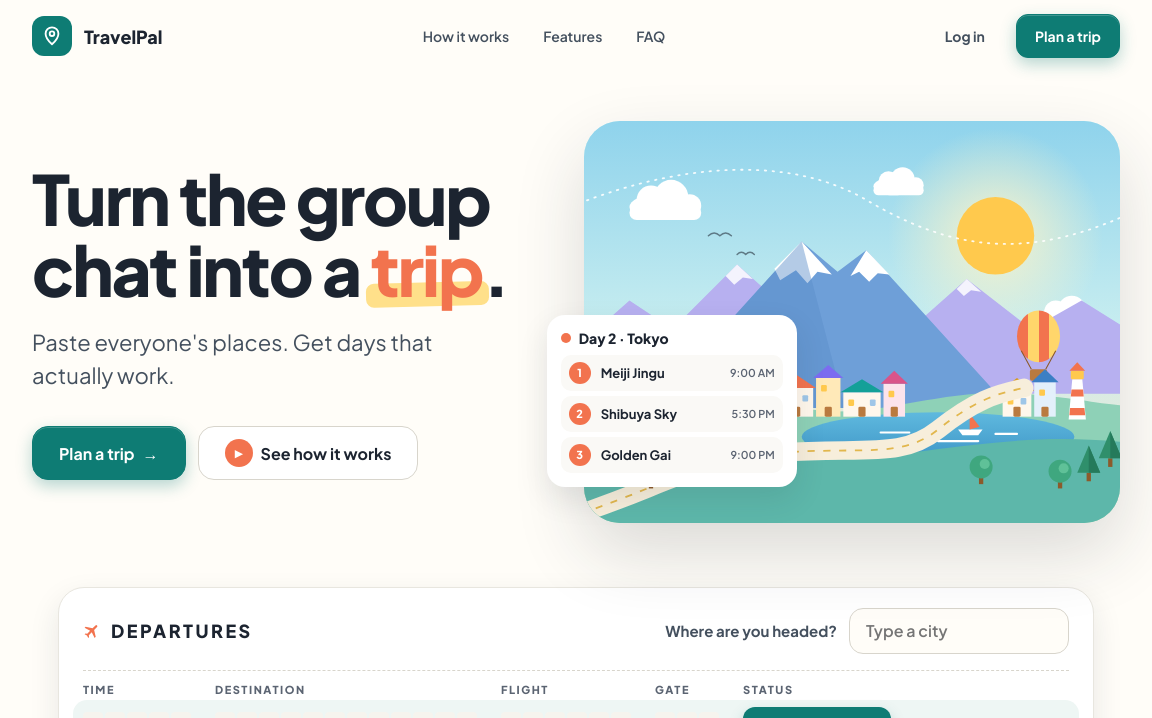
it: turns the departures board into the first step of planning
# Typing a city flips it onto the top row and carries it into sign-up.
Type "Kyoto" into the field at (959, 631), box [849,608,1069,654]
(page scrolled)
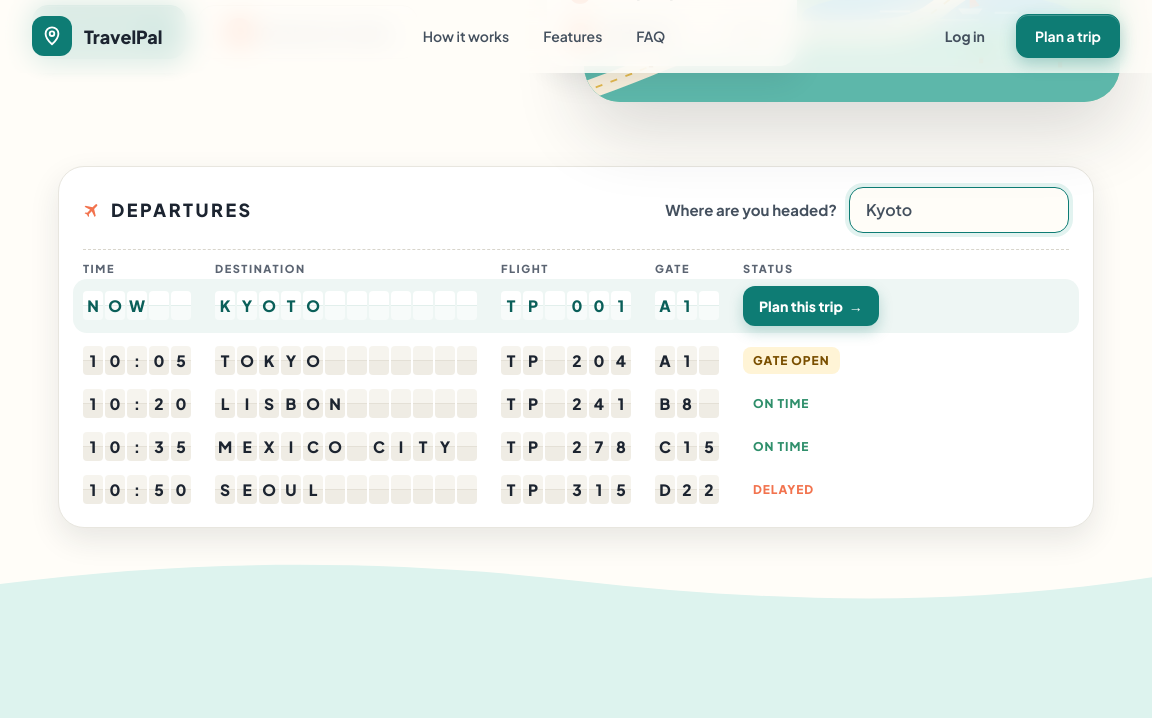
Check: the element named "Your trip: Kyoto" reads "K Y O T O", box [215,291,479,320]
Click the button with aria-label "Pick Tokyo" at (576, 360), box [73,339,1079,382]
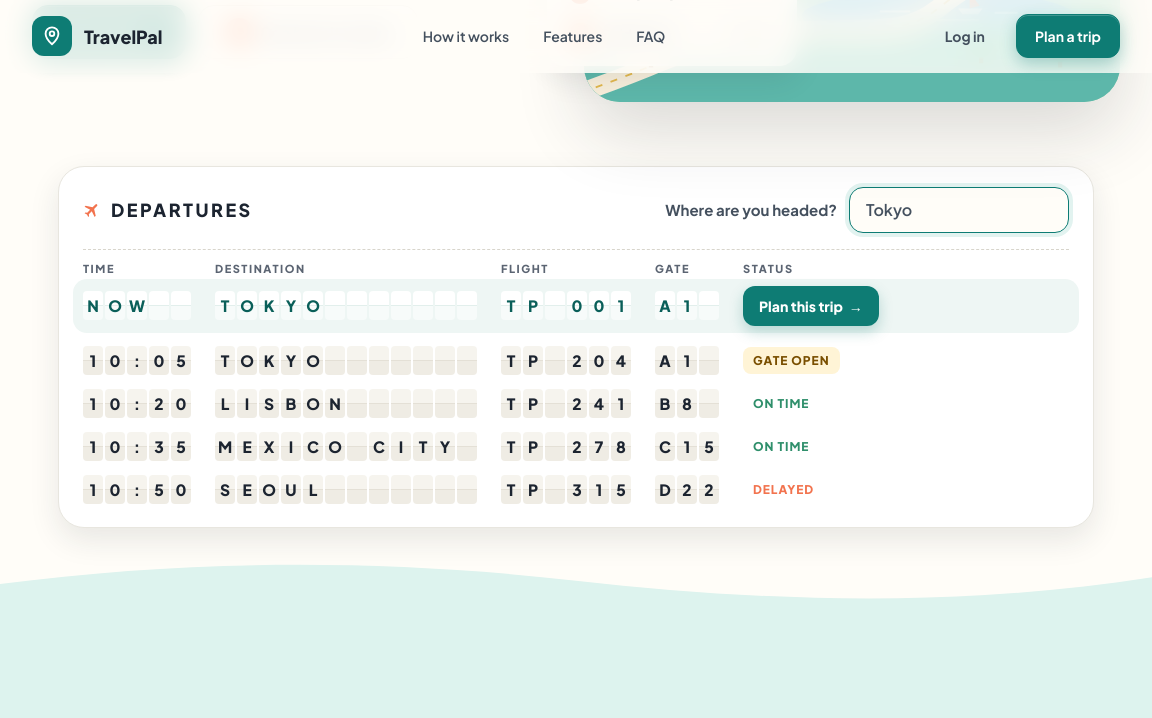
Check: the field holds "Tokyo", box [849,187,1069,233]
